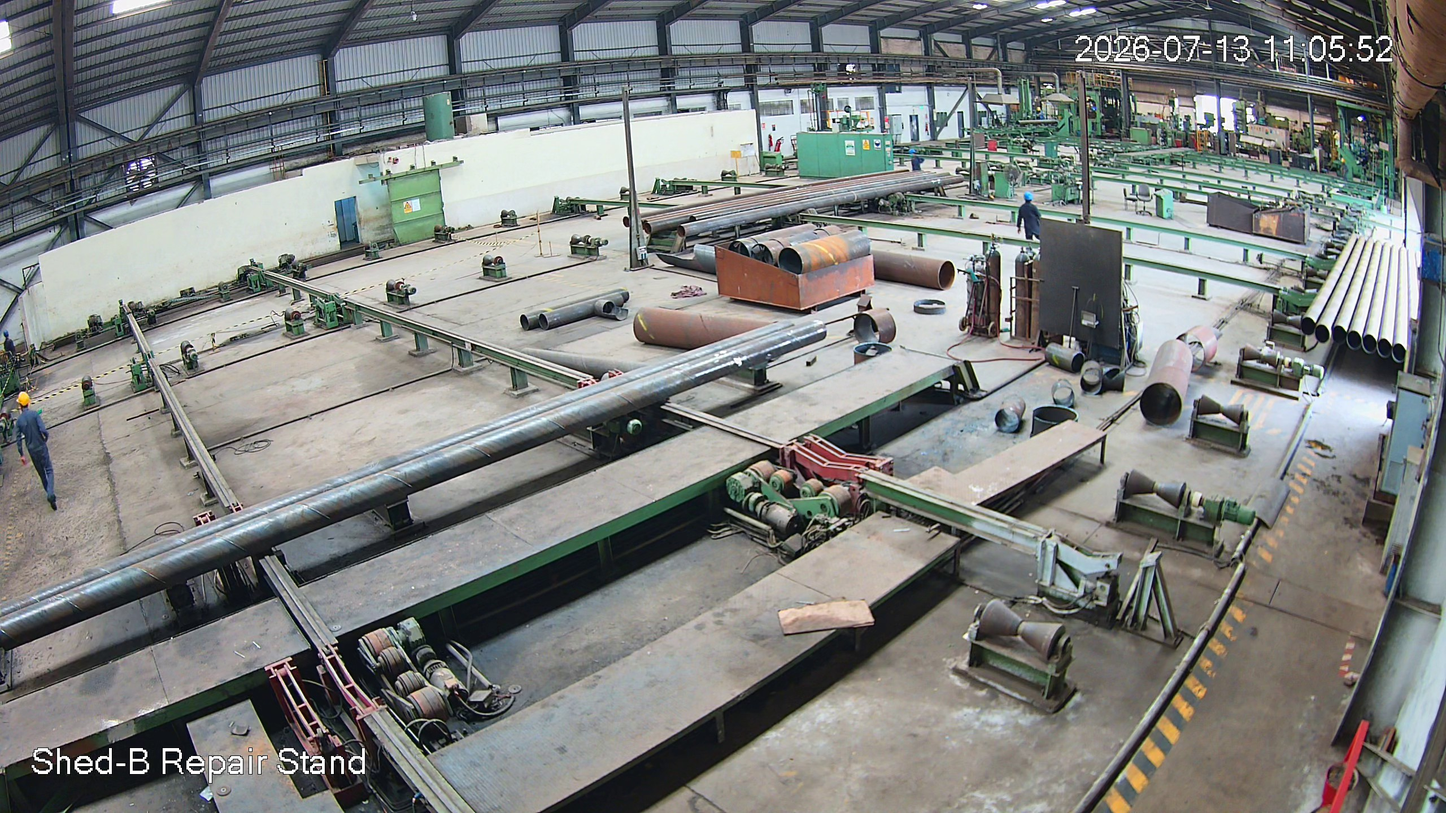Helmet: (13, 390, 44, 419)
Person: (8, 393, 63, 517)
